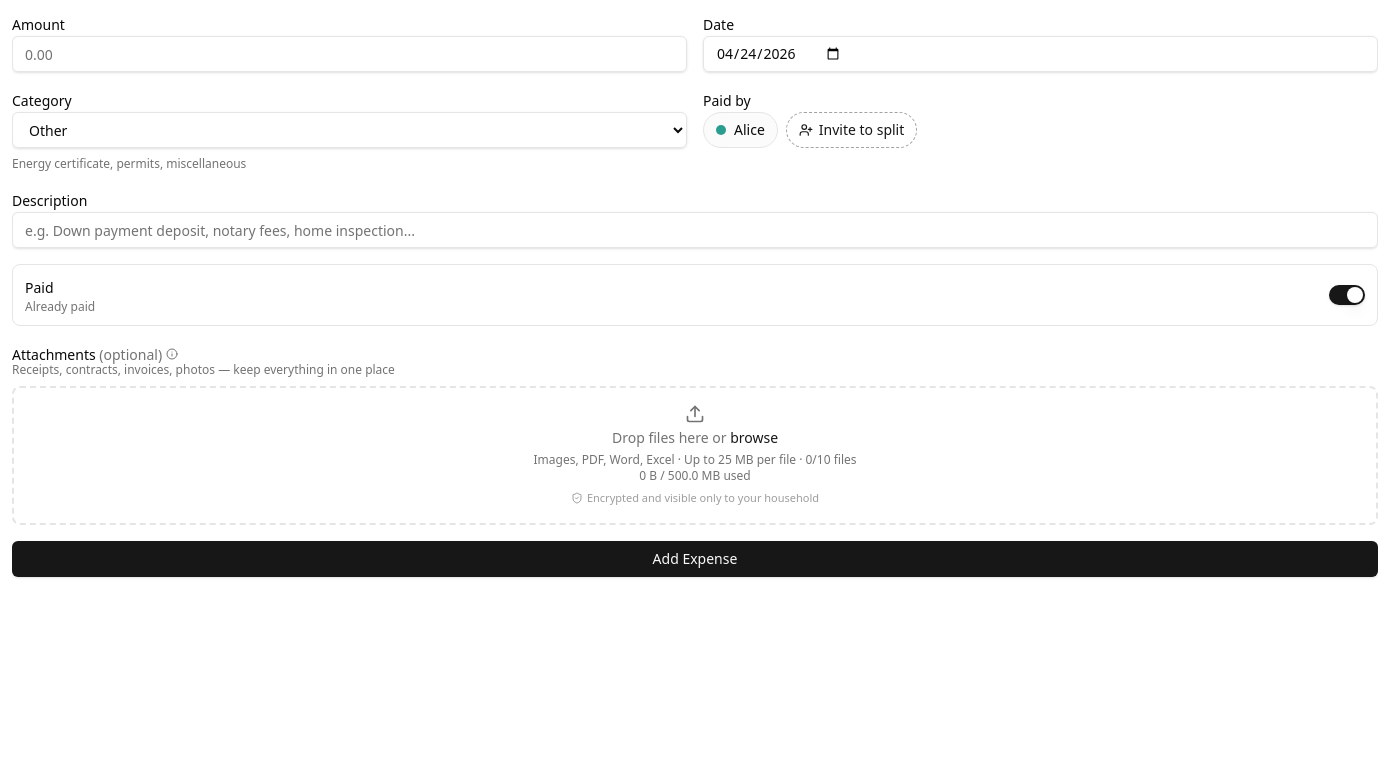
Scenario: ExpenseForm payer behavior › single-member household › clicking the chip again collapses the panel
The width and height of the screenshot is (1390, 780).
Click the button "Invite to split".
click(852, 130)  # box [786,112,917,148]
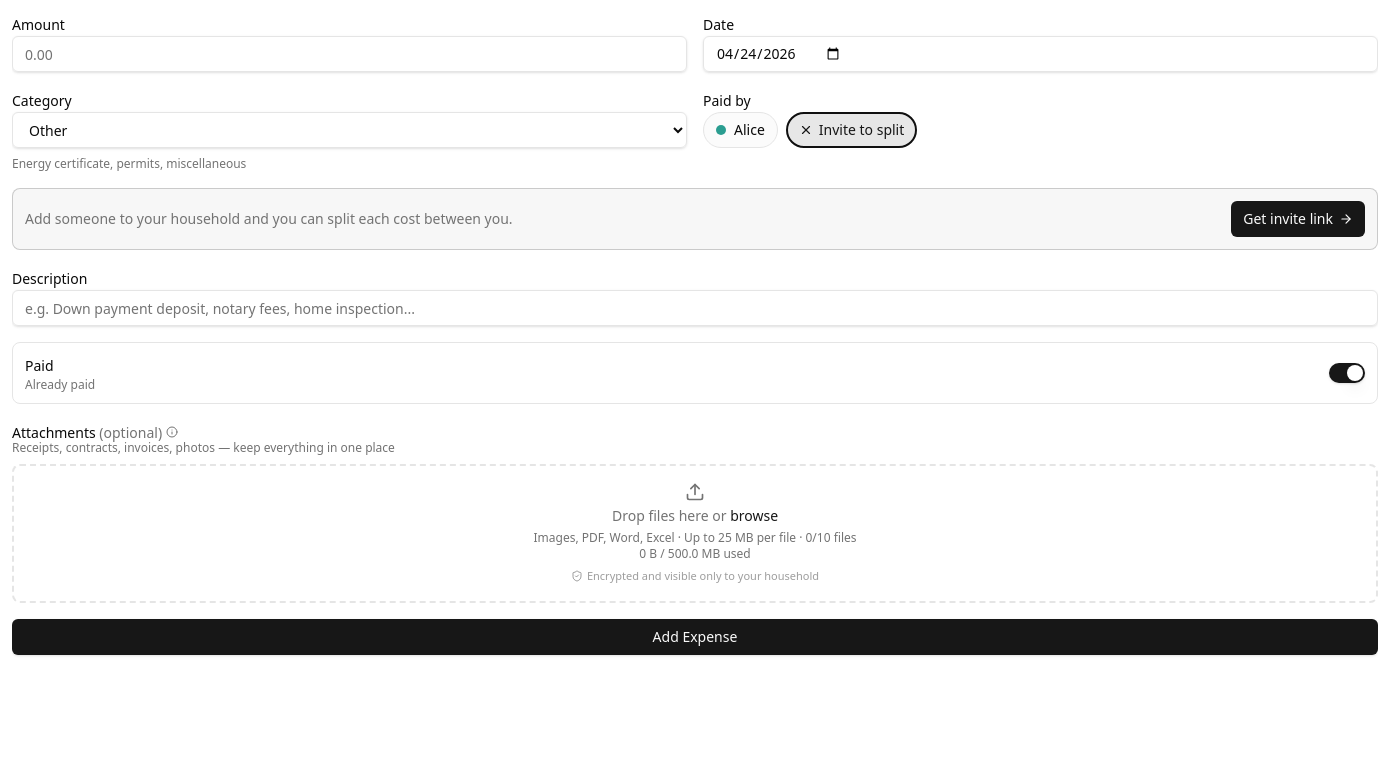
Click the button "Invite to split".
click(852, 130)  # box [786,112,917,148]
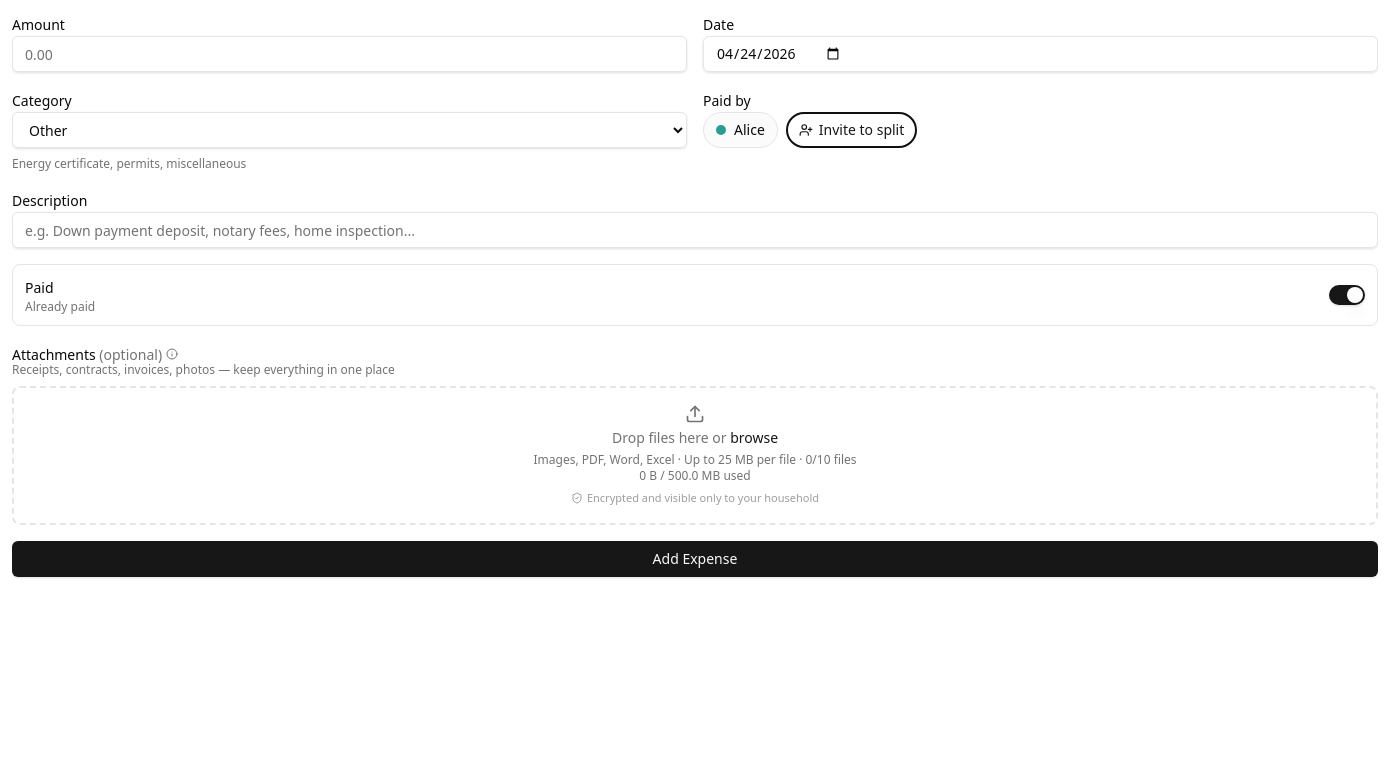
Result: the button "Invite to split" is collapsed at [786,112,917,148]
Result: the text "Add someone to your household" is gone
